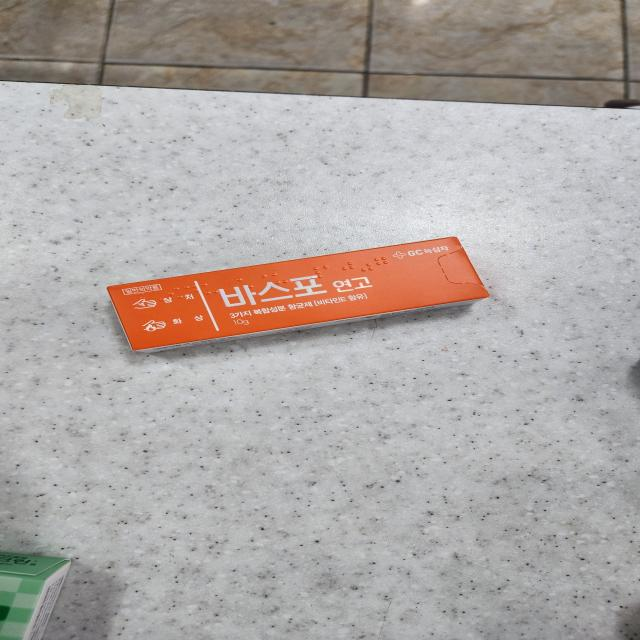box: (109, 238, 488, 352)
